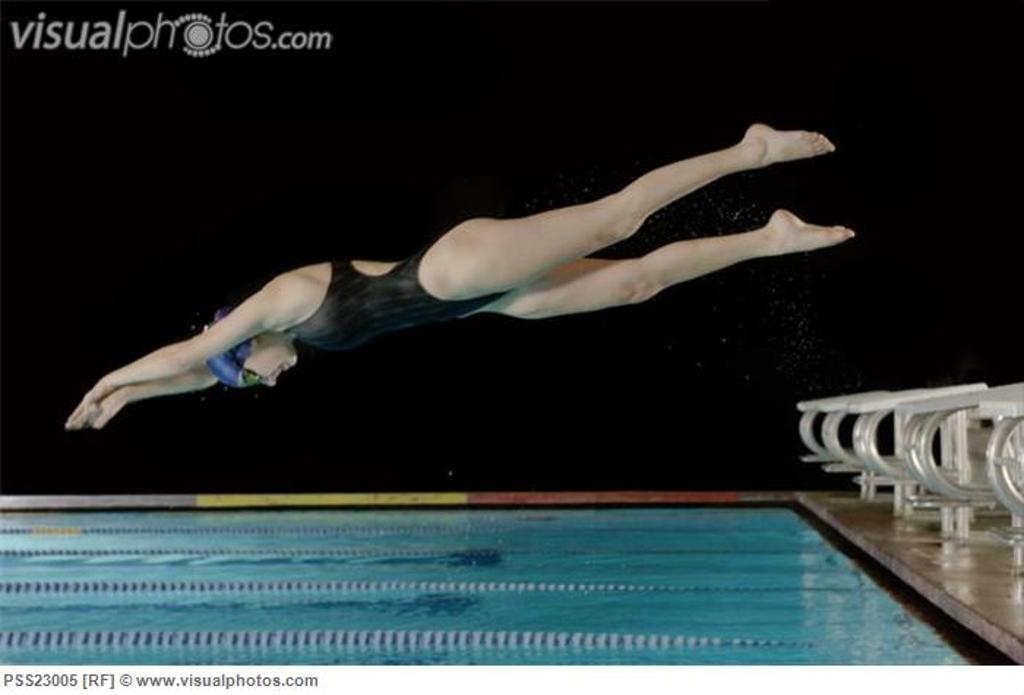face: (241, 347, 298, 386)
